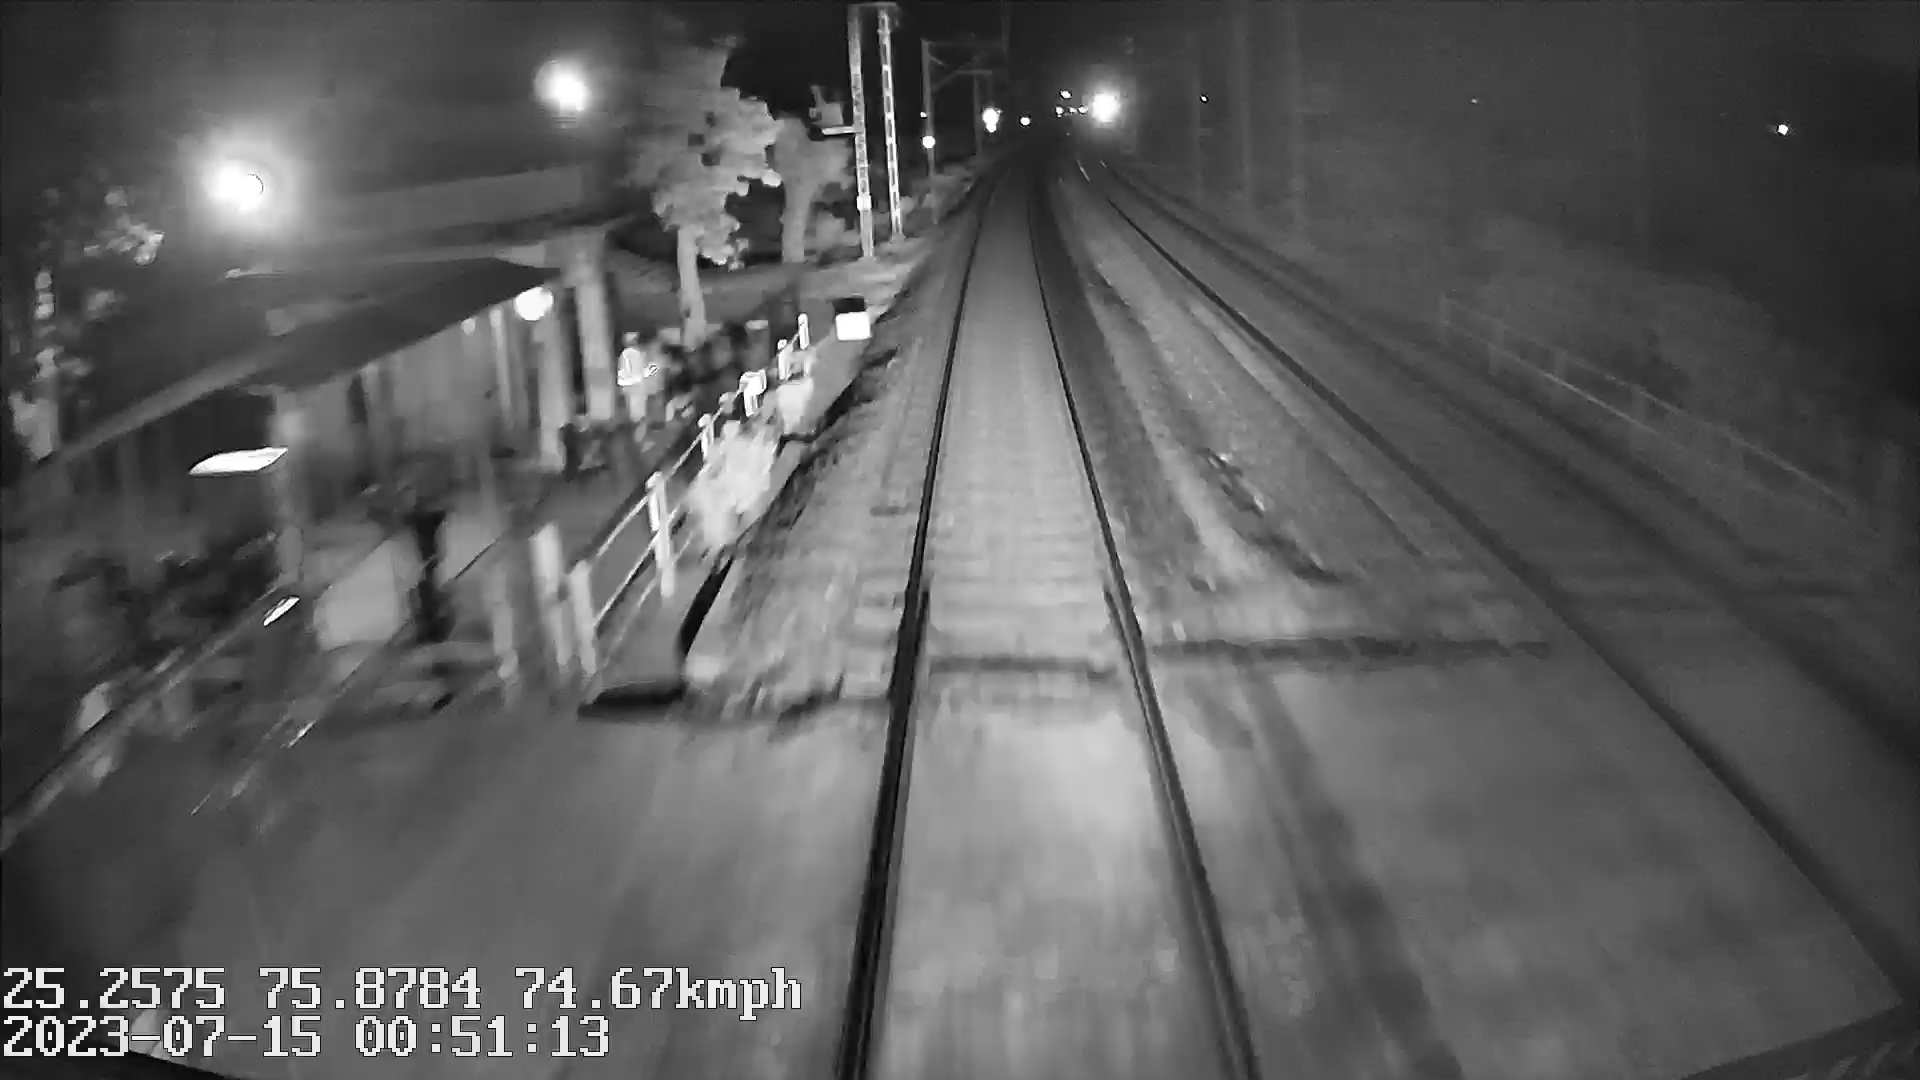track1: (1101, 187, 1900, 872), (858, 179, 1242, 1040)
track2: (1097, 179, 1900, 876)
